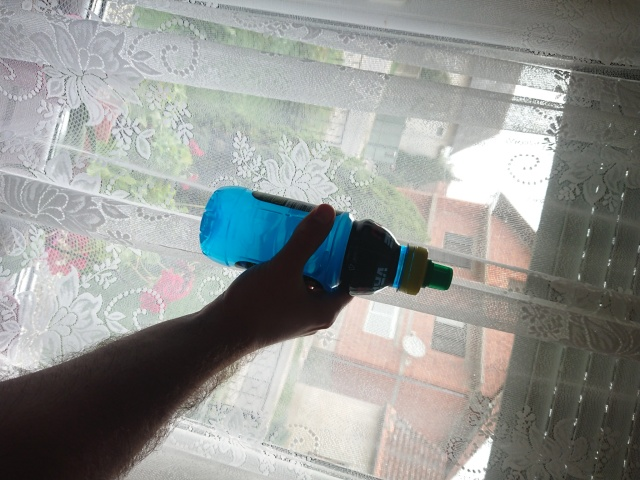Vindi Iso Sport Forest Strawberries 500mL: (197, 182, 455, 298)
